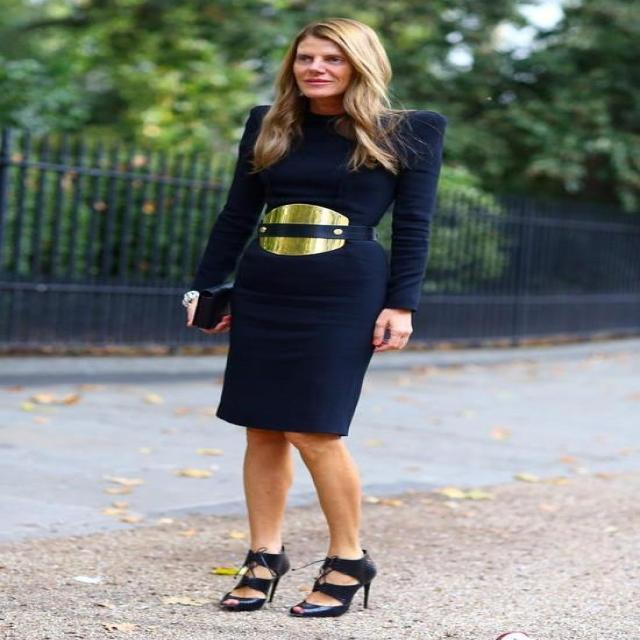dress: (186, 105, 445, 438)
